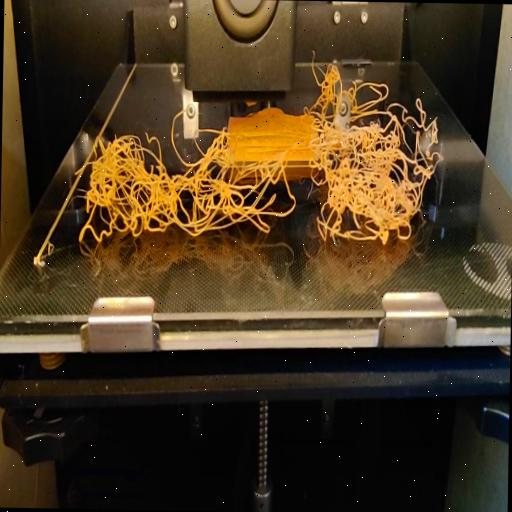spaghetti: (72, 95, 442, 252), (306, 46, 422, 104)
